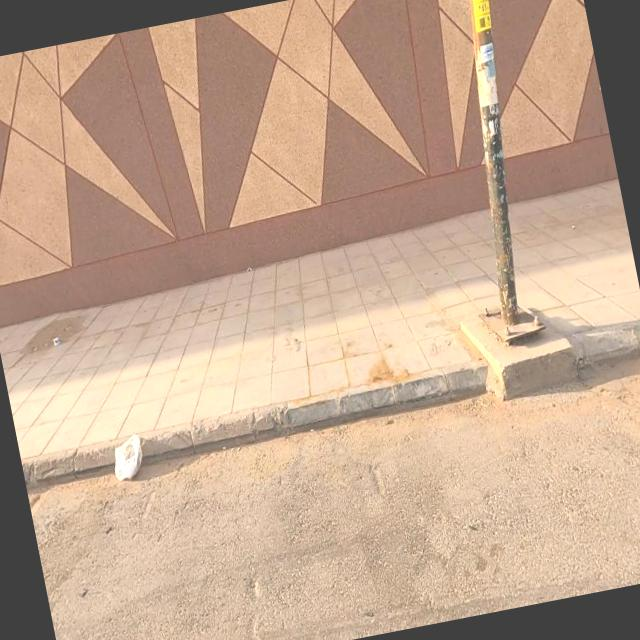debris: (45, 401, 196, 530), (33, 312, 77, 374)
